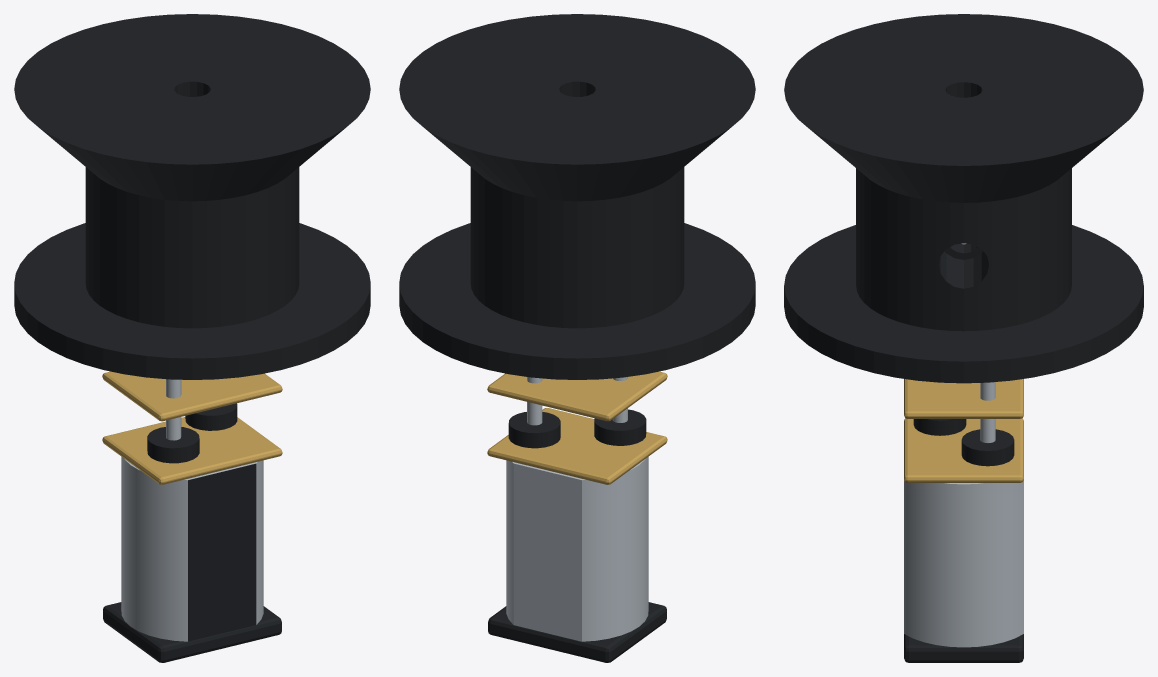
The model's file is winch_pololu_1000to1.glb.
3 renders of one model, left to right at view 1: azimuth 30°, elevation 25°; view 2: azimuth 150°, elevation 25°; view 3: azimuth 270°, elevation 25°, orthographic.
Parts seen in each view (by area): view 1: part_winch_pololu_1000to1__black_polymer, part_winch_pololu_1000to1__steel, part_winch_pololu_1000to1__brass; view 2: part_winch_pololu_1000to1__black_polymer, part_winch_pololu_1000to1__steel, part_winch_pololu_1000to1__brass; view 3: part_winch_pololu_1000to1__black_polymer, part_winch_pololu_1000to1__steel, part_winch_pololu_1000to1__brass.
Part boxes in pixels (bbox=[...]): part_winch_pololu_1000to1__black_polymer: bbox=[14, 14, 370, 662]; part_winch_pololu_1000to1__steel: bbox=[121, 379, 263, 641]; part_winch_pololu_1000to1__brass: bbox=[102, 371, 282, 484]; part_winch_pololu_1000to1__black_polymer: bbox=[399, 14, 755, 662]; part_winch_pololu_1000to1__steel: bbox=[506, 377, 648, 641]; part_winch_pololu_1000to1__brass: bbox=[487, 371, 667, 484]; part_winch_pololu_1000to1__black_polymer: bbox=[784, 14, 1143, 662]; part_winch_pololu_1000to1__steel: bbox=[904, 243, 1023, 647]; part_winch_pololu_1000to1__brass: bbox=[904, 379, 1023, 482].
Bounding box in the file's own units: 0.03 × 0.0501 × 0.03.
